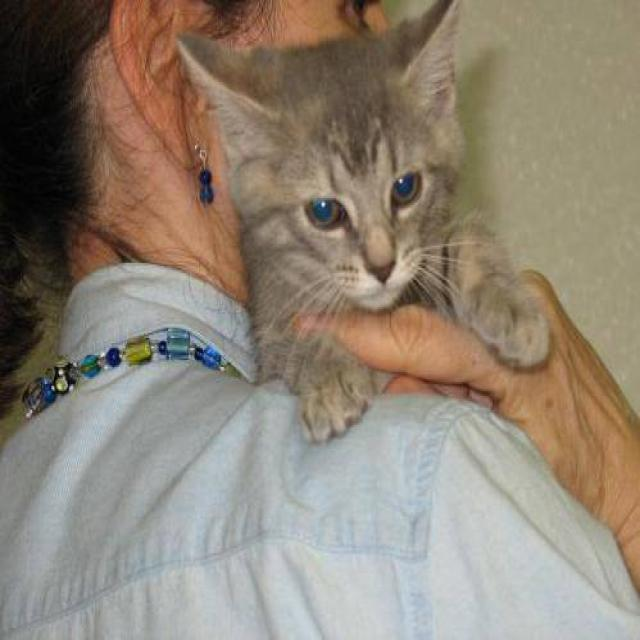cat: (174, 0, 550, 445)
